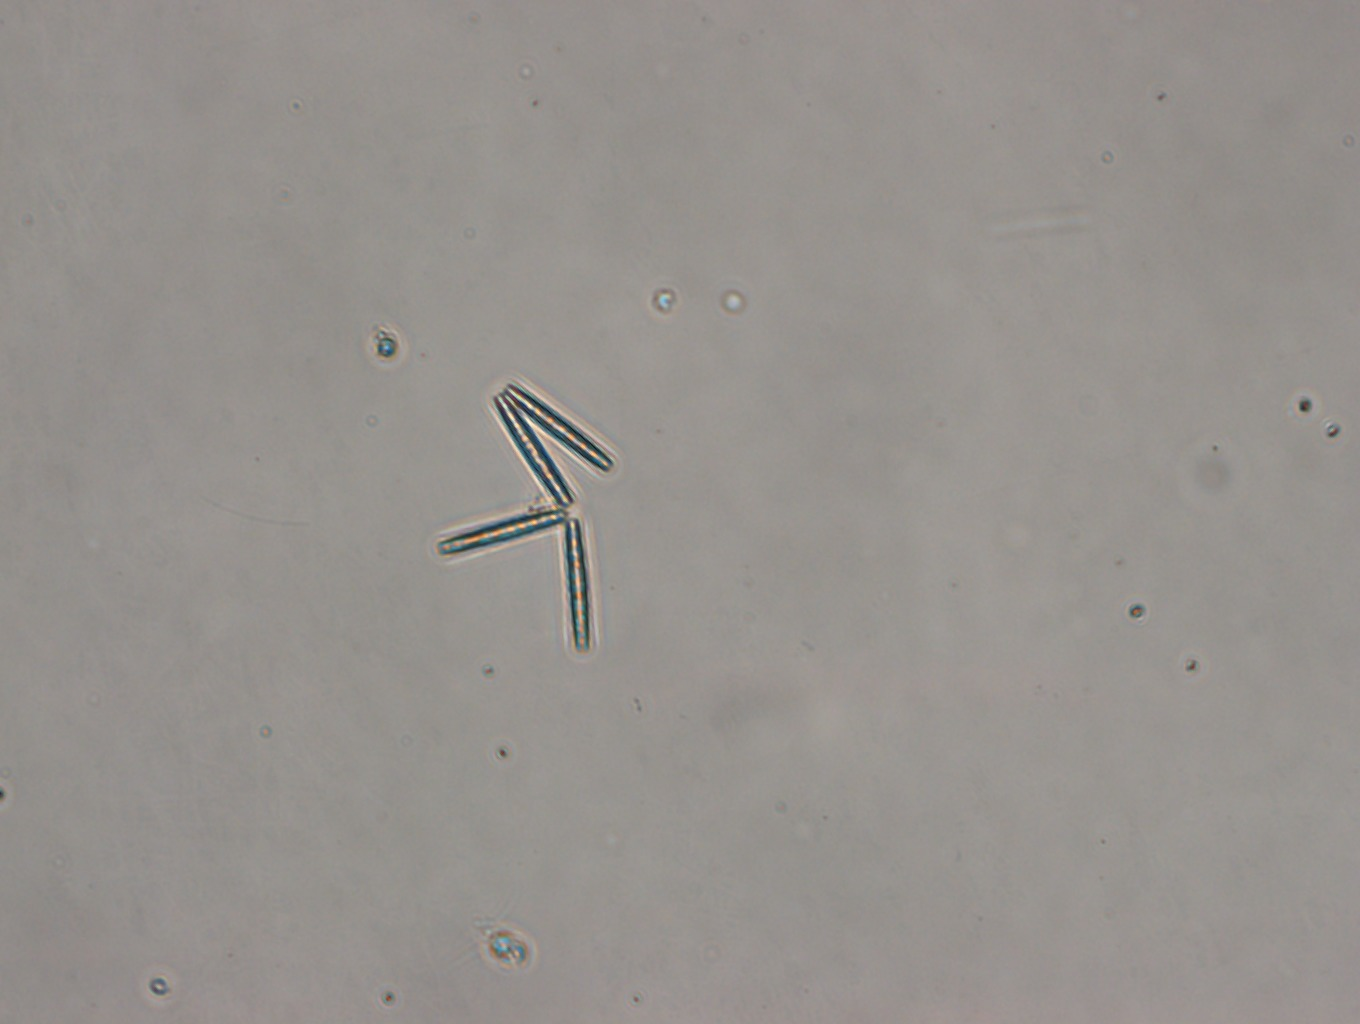thalassionema nitzschioides: (436, 383, 614, 651)
